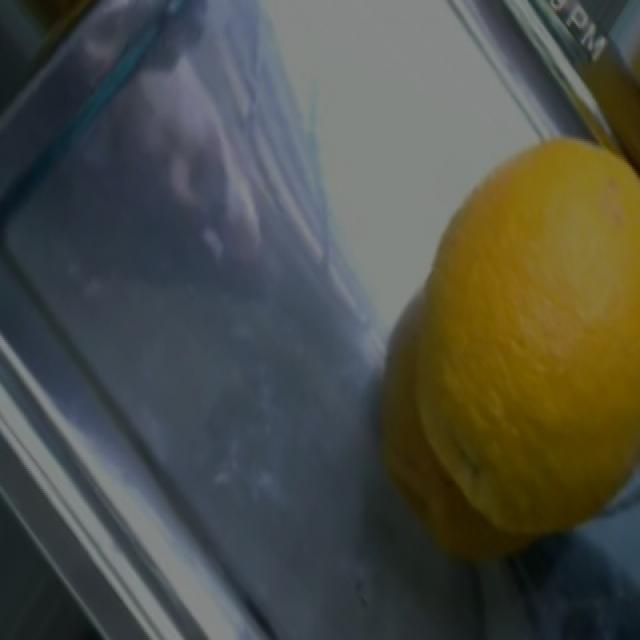Fruit: (432, 111, 640, 463), (0, 0, 161, 63)
